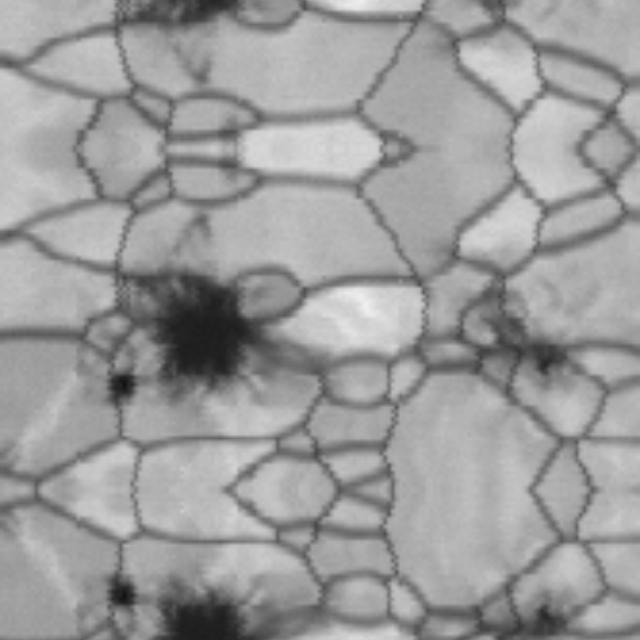good_void: (100, 264, 287, 423), (457, 252, 615, 405), (117, 559, 287, 640), (457, 577, 609, 640), (470, 0, 594, 48), (156, 208, 234, 264), (156, 36, 234, 92), (95, 366, 151, 412), (95, 570, 151, 616)
